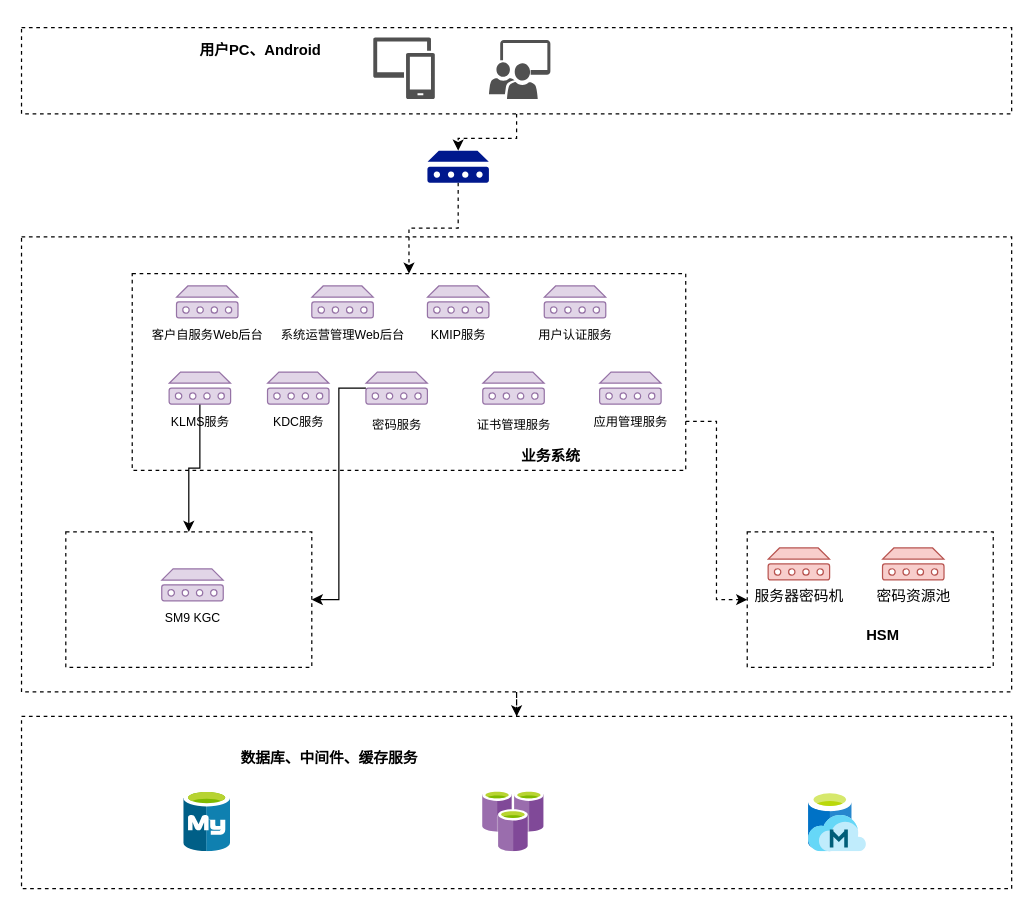
Some shapes in this 1033 by 910 pixel diagram are drawn without their labels. The shapes that lost their labels are listed below. From the top down, each one's centre as x and y in pixels, then its label:
point 457,166: Nginx反向代理
point 206,820: mysql
point 513,820: Redis
point 837,820: MQ
